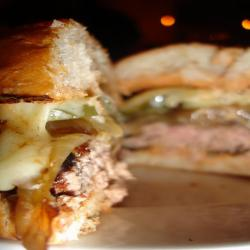burger: (2, 16, 133, 244), (101, 36, 250, 181)
